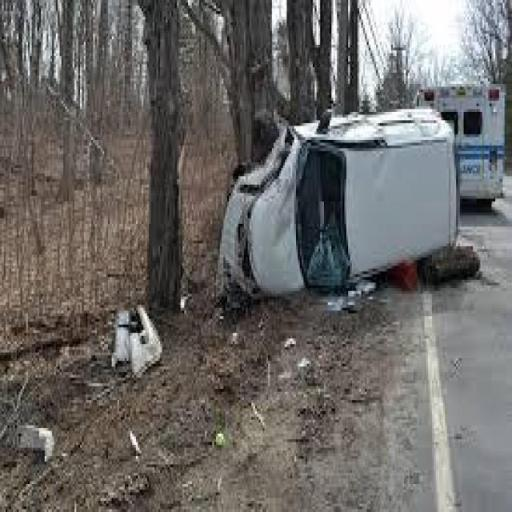Car: (226, 105, 465, 303)
Major Accident: (222, 103, 462, 303)
